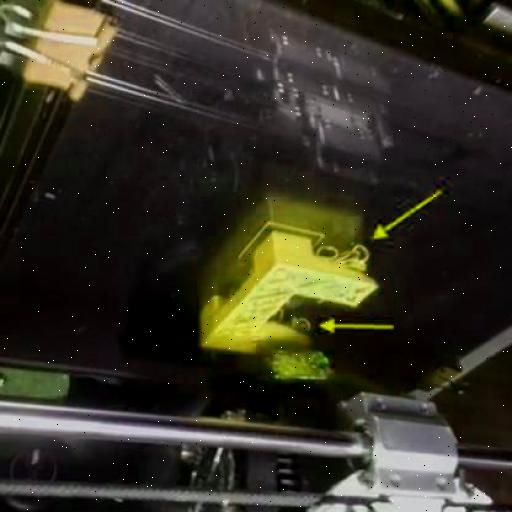spaghetti: (318, 238, 372, 276), (272, 308, 312, 334)
